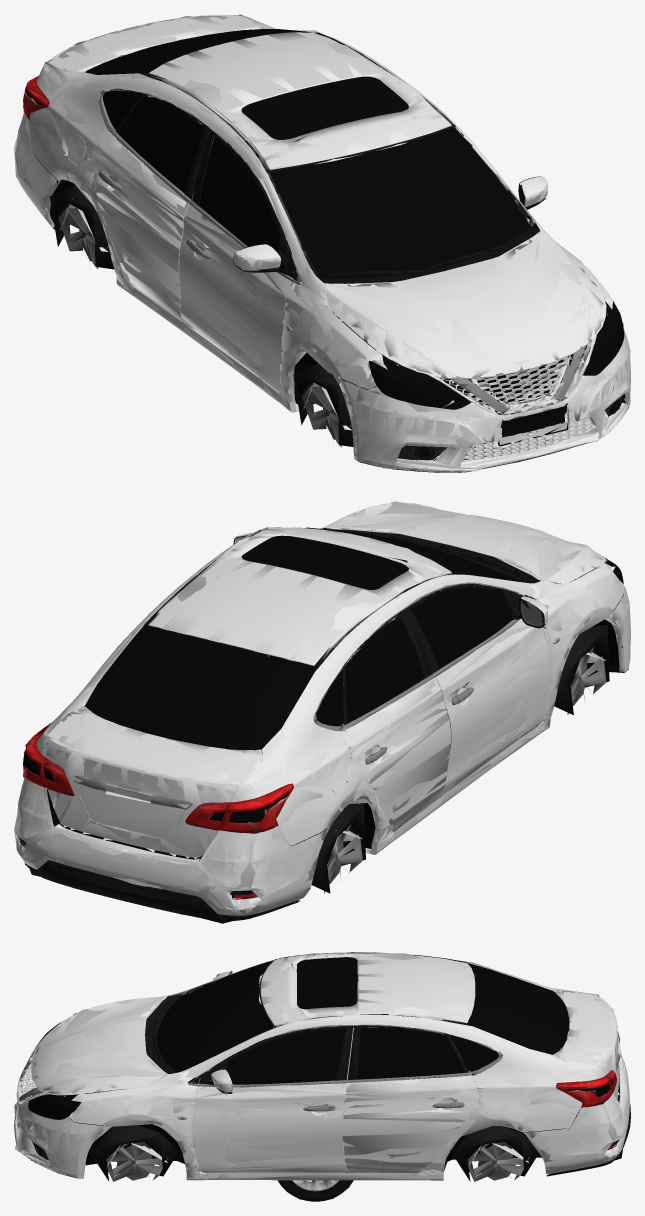
Rendered from sedan5.glb.
3 views of the same model, one above another, from view 1: azimuth 30°, elevation 25°; view 2: azimuth 150°, elevation 25°; view 3: azimuth 270°, elevation 25° (orthographic). The views are drawn at different scales.
Parts seen in each view (by area): view 1: body0, body1, body2; view 2: body0, body1, body2; view 3: body0, body1, body2, wheel0, wheel1.
Part boxes in pixels (x1=…): body0: x1=15, y1=15, x2=630, y2=472; body1: x1=15, y1=15, x2=630, y2=472; body2: x1=14, y1=14, x2=630, y2=472; body0: x1=15, y1=503, x2=630, y2=920; body1: x1=16, y1=502, x2=630, y2=920; body2: x1=14, y1=501, x2=627, y2=923; body0: x1=14, y1=952, x2=630, y2=1180; body1: x1=14, y1=952, x2=630, y2=1180; body2: x1=14, y1=952, x2=627, y2=1181; wheel0: x1=277, y1=1180, x2=352, y2=1201; wheel1: x1=278, y1=1180, x2=353, y2=1200.
Size of the model in its own units: 2.01 by 1.81 by 4.64.
